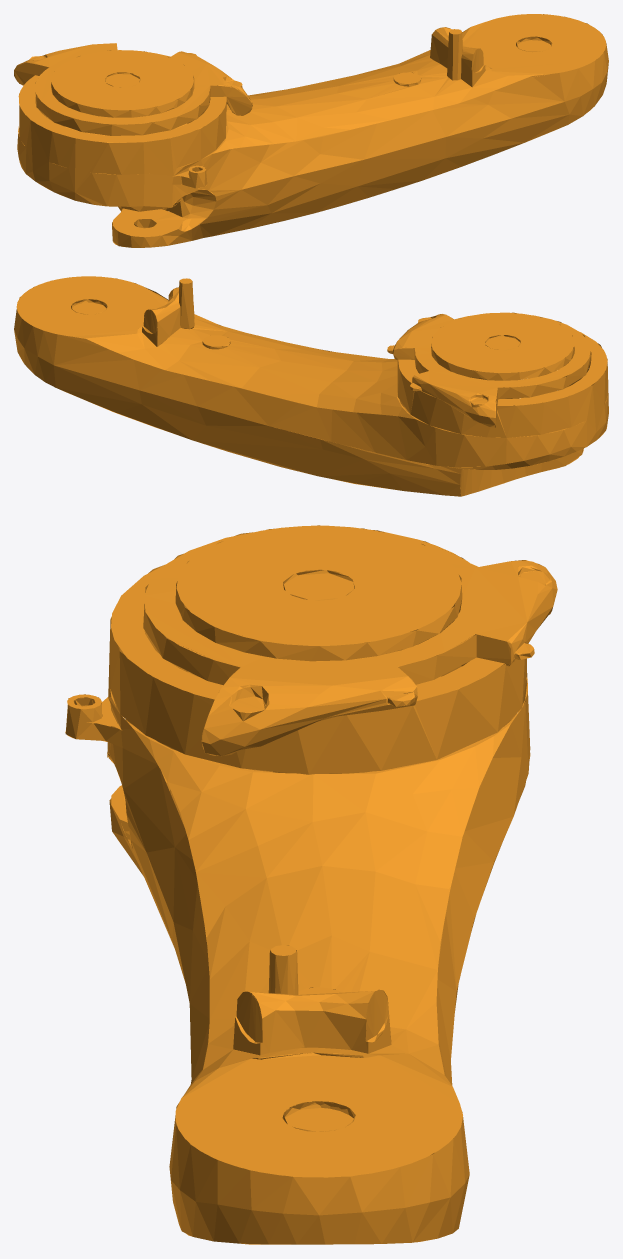
File: Kuka361Link2.dae
3 views of the same model, one above another, from view 1: azimuth 30°, elevation 25°; view 2: azimuth 150°, elevation 25°; view 3: azimuth 270°, elevation 25° (orthographic). The views are drawn at different scales.
Parts seen in each view (by area): view 1: Kuka361Link2; view 2: Kuka361Link2; view 3: Kuka361Link2.
Boxes of the visible parts, left/top/right/bottom form: Kuka361Link2: left=14, top=14, right=608, bottom=247; Kuka361Link2: left=14, top=276, right=608, bottom=496; Kuka361Link2: left=65, top=525, right=557, bottom=1244.
Bounding box in the file's own units: 1.61 × 0.6064 × 0.4337.
